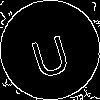U: (25, 25, 74, 80)
